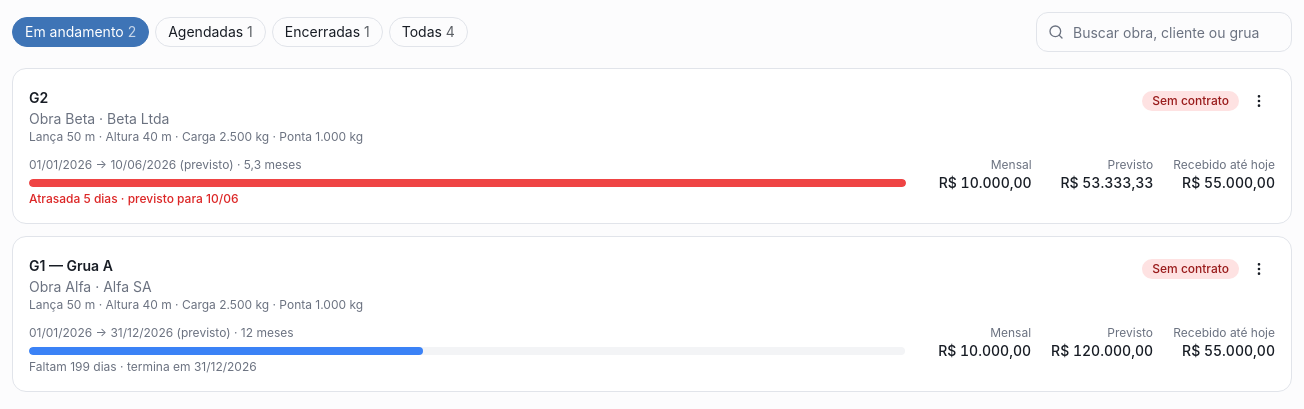
Scenario: aba Locações › agendadas e encerradas
Click the button "Agendadas 1": (210, 32) x1=155 y1=17 x2=266 y2=47
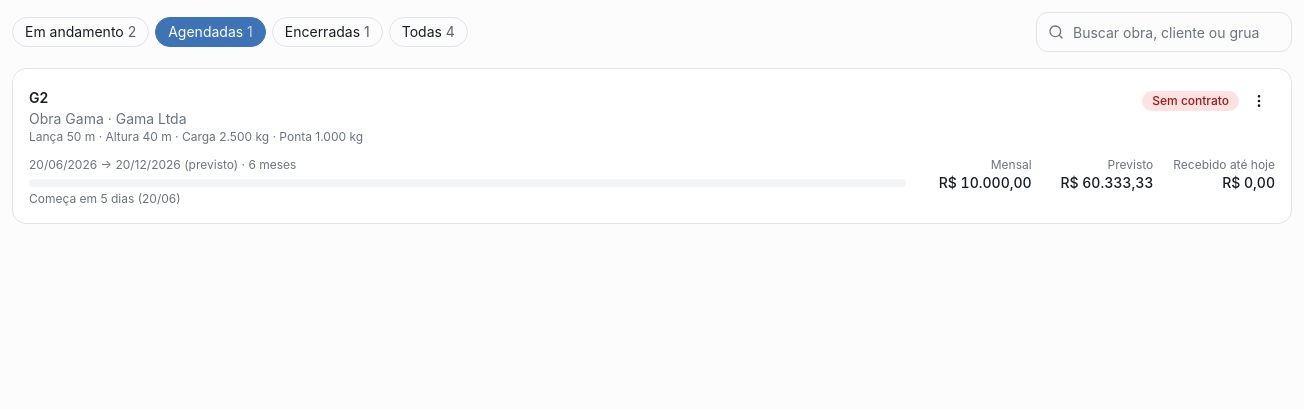
Expected: the text "Obra Gama · Gama Ltda" is shown, x1=29 y1=110 x2=186 y2=127
Click the button "Encerradas 1": (327, 32) x1=272 y1=17 x2=383 y2=47
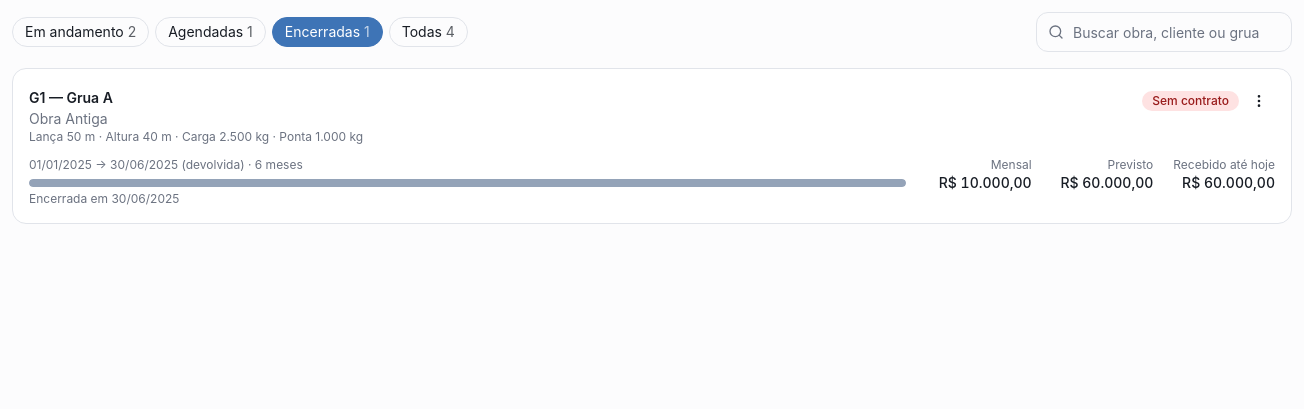
Expected: the text "Obra Alfa" is not shown
Expected: the text "Obra Antiga" is shown, x1=29 y1=110 x2=108 y2=127
